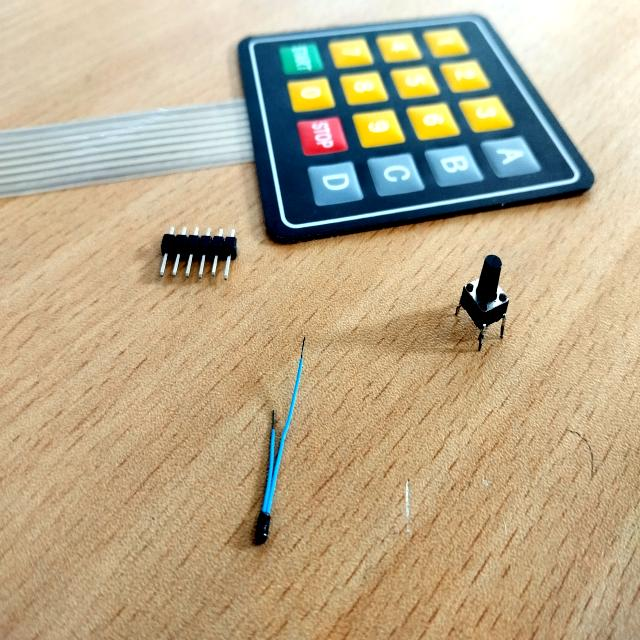Keypad: (229, 11, 594, 245)
NTC-Thermistor: (245, 338, 318, 555)
Pin-Header: (156, 222, 242, 285)
Tact-Switch: (454, 250, 511, 353)
